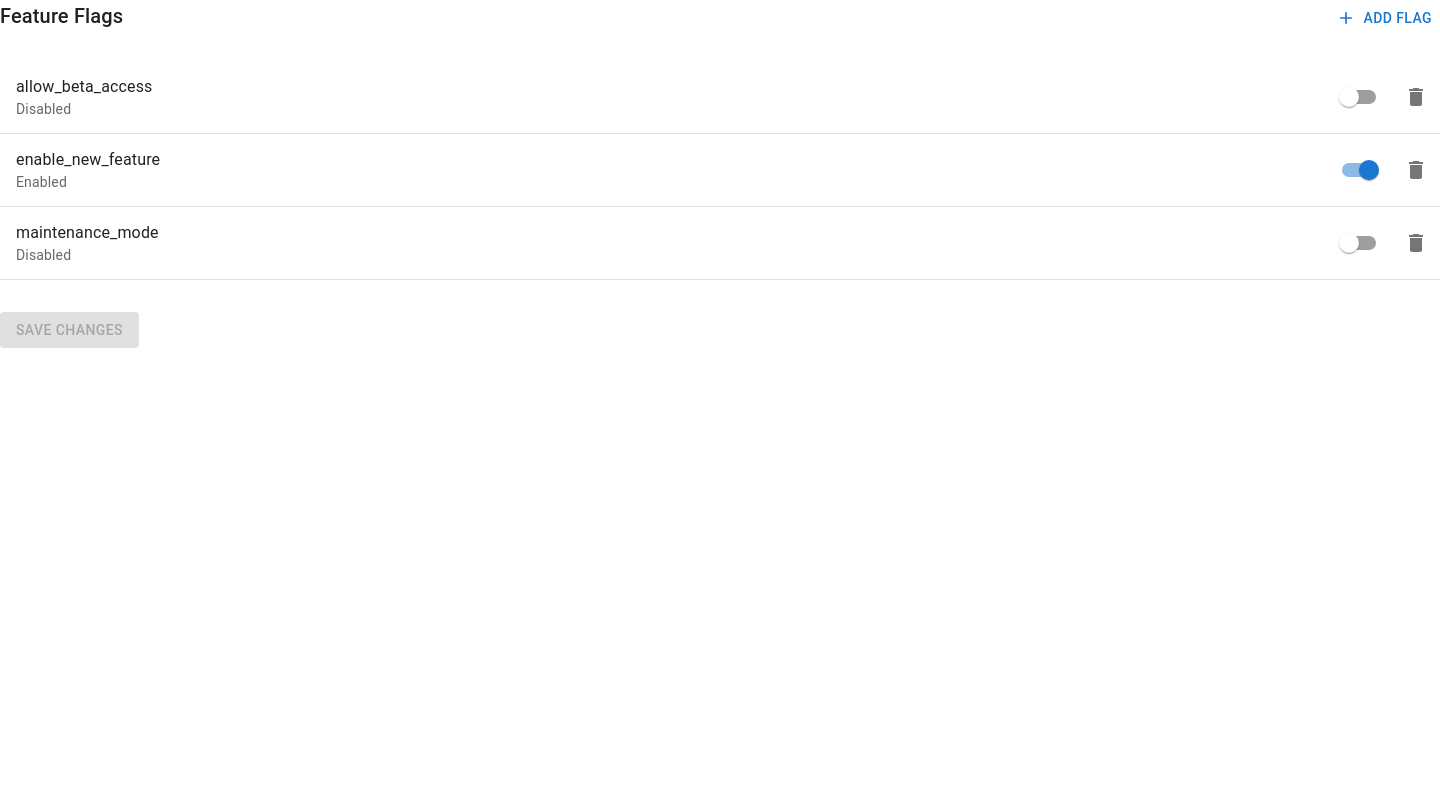
Test: FeatureFlagsList › Add Flag Dialog › should close dialog when Cancel button clicked
Click the button "Add Flag". click: (1386,18)
box: [1332,0,1439,36]
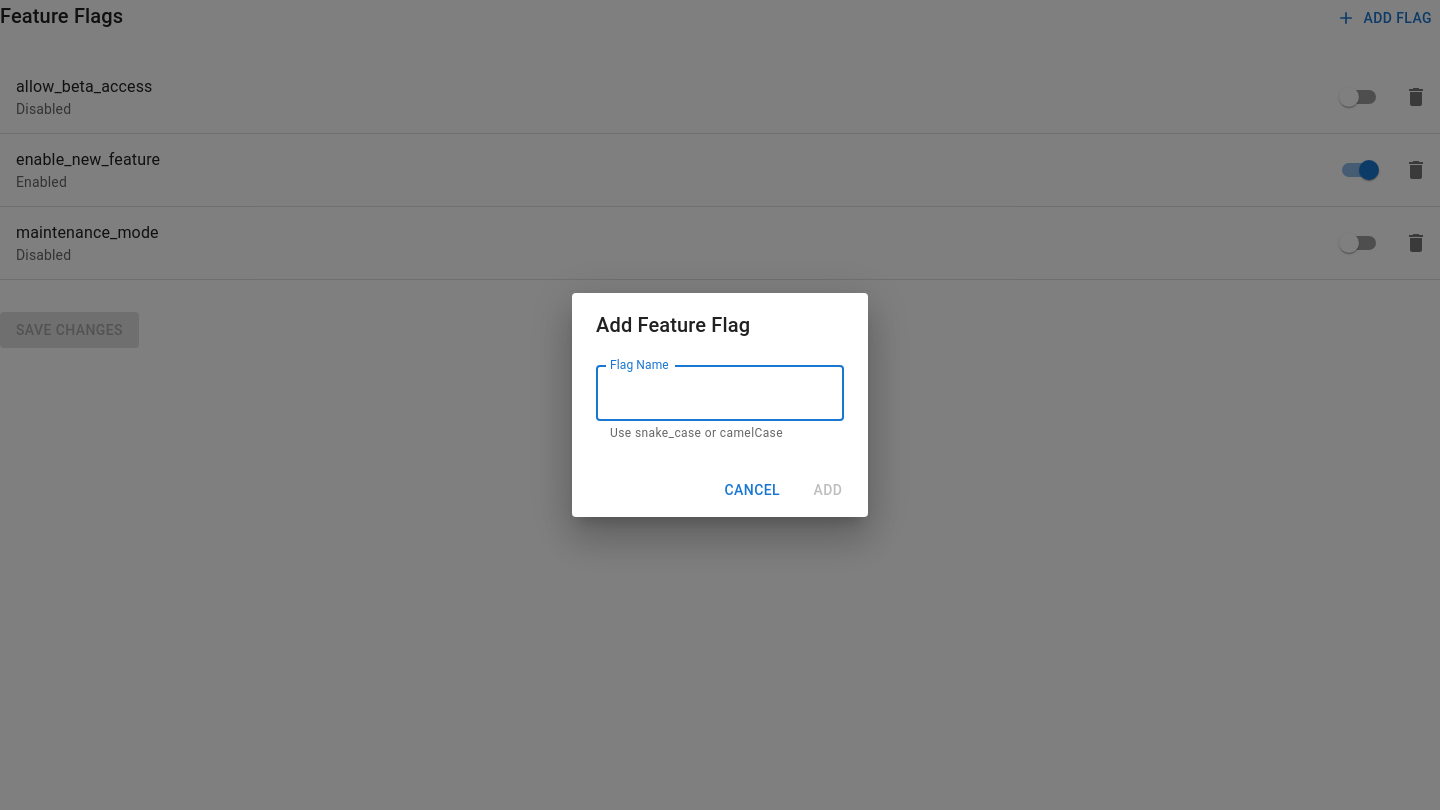
Expected: the dialog is shown, [572,293,868,517]
Click the button "Cancel". click: (752,490)
box: [716,472,788,509]
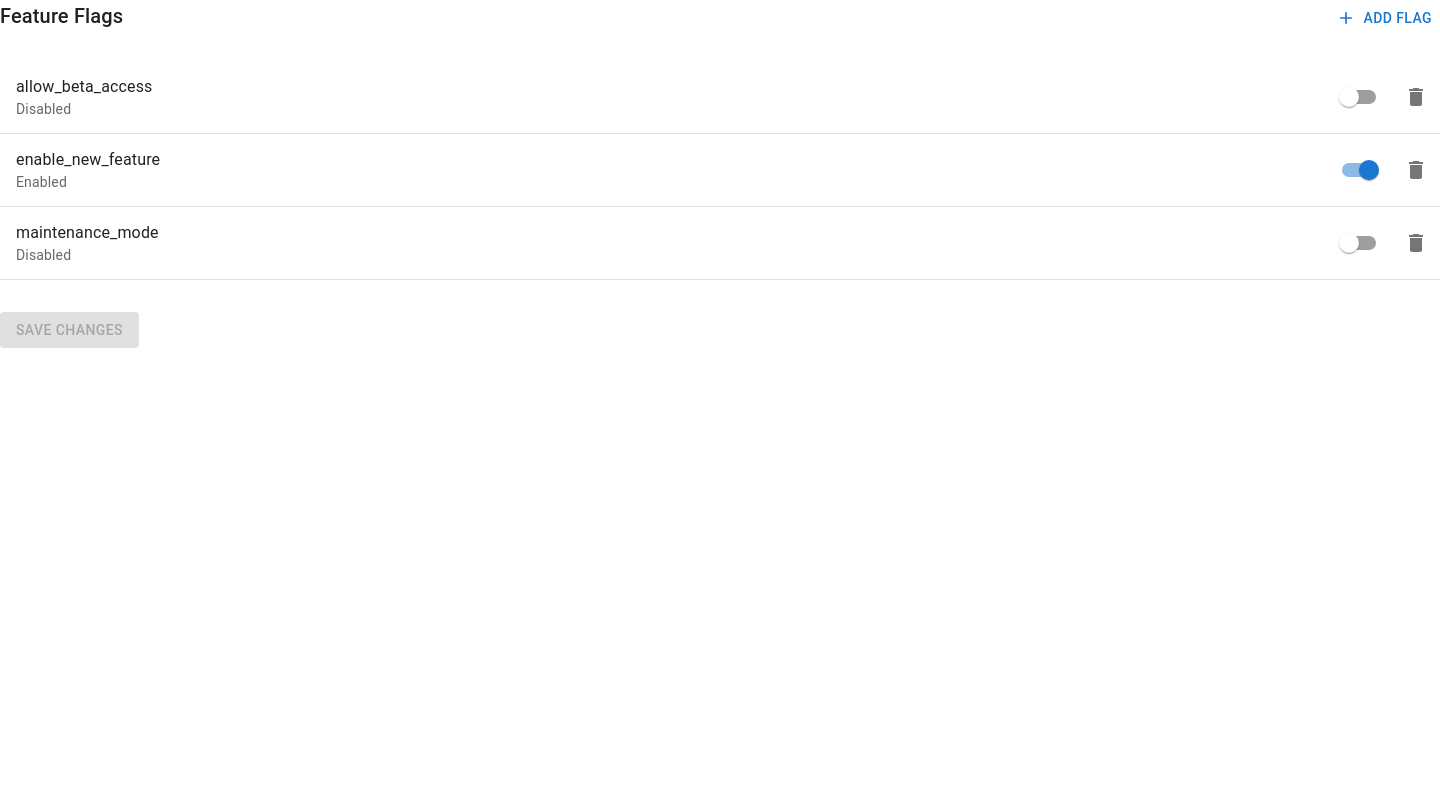
Expected: the dialog is gone
